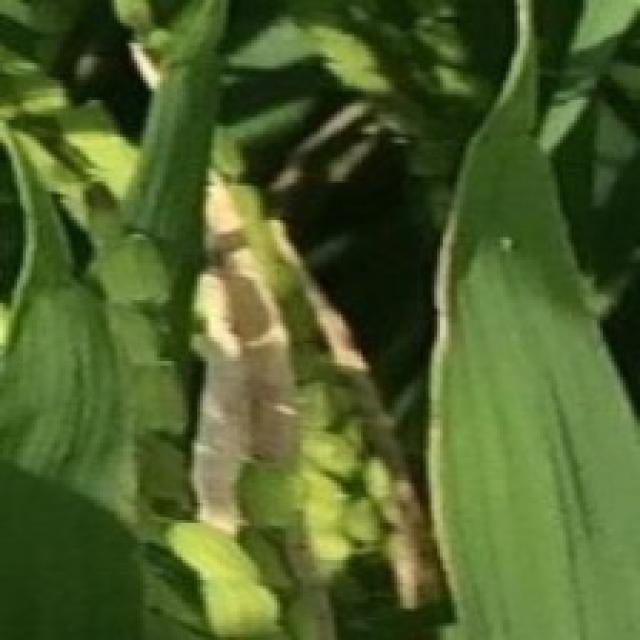Rice___Bacterial_Leaf_Blight: (424, 0, 637, 637)
